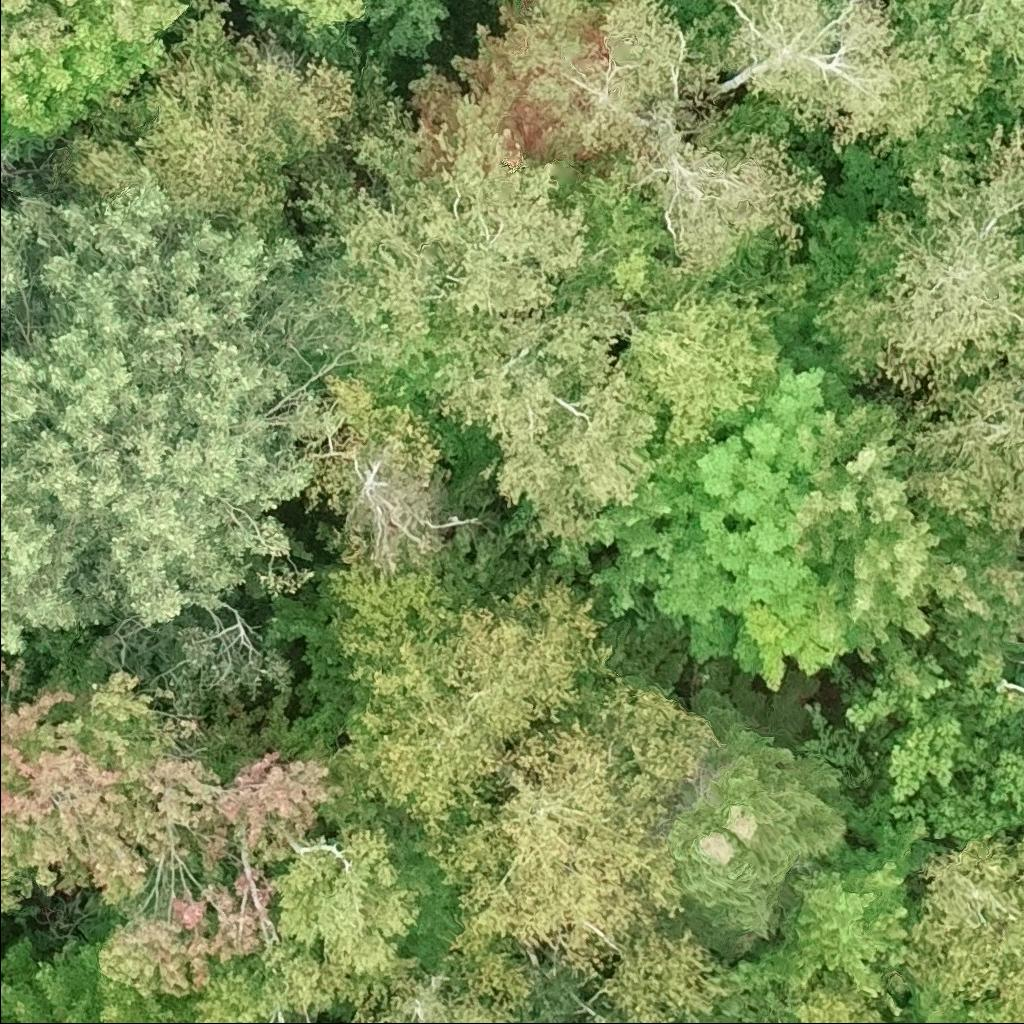crown: (335, 102, 802, 551), (0, 167, 396, 662), (411, 675, 731, 1023), (589, 329, 855, 691), (52, 0, 400, 239), (320, 560, 619, 835), (830, 119, 1023, 543), (597, 0, 828, 280), (788, 392, 1023, 667), (96, 751, 348, 997), (0, 654, 225, 916), (779, 777, 955, 998), (706, 0, 936, 161), (685, 659, 854, 876), (403, 0, 609, 167), (0, 0, 190, 146), (0, 894, 194, 1023), (271, 822, 427, 981), (903, 824, 1023, 1023), (193, 903, 387, 1023), (671, 782, 789, 962), (535, 35, 655, 194), (886, 0, 1023, 133), (927, 609, 1023, 742), (866, 694, 981, 800), (347, 957, 521, 1023), (843, 639, 953, 733), (888, 776, 1023, 848), (236, 0, 372, 61), (346, 93, 445, 176), (949, 731, 1023, 815), (785, 970, 891, 1023), (590, 1007, 625, 1023)
